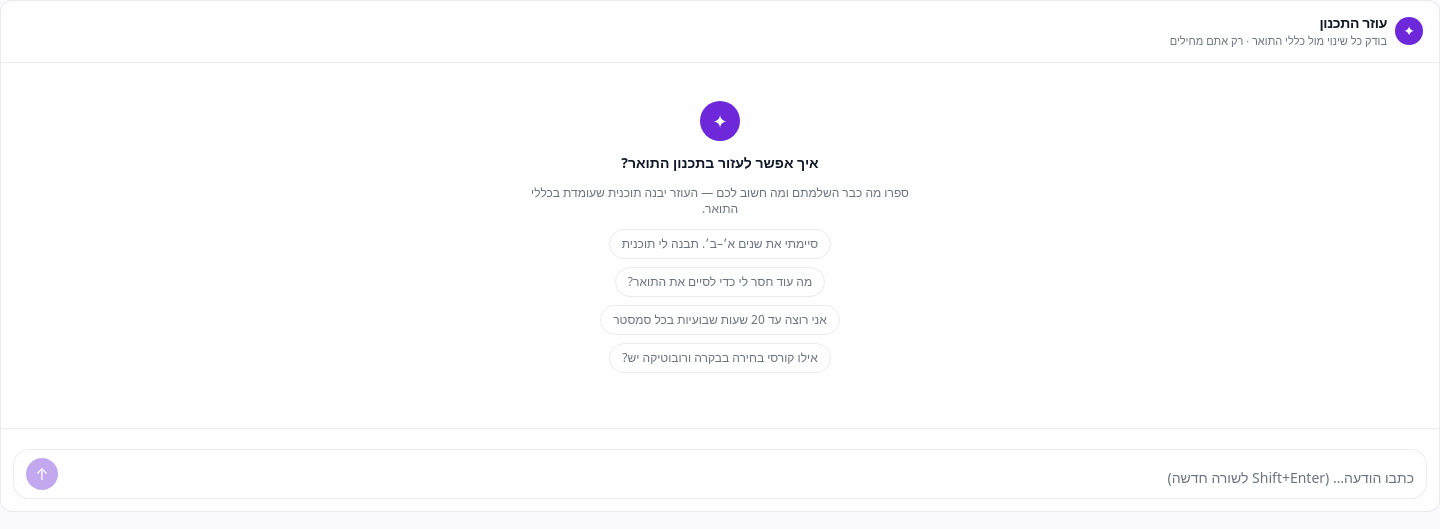
Test case: renders the server-owned readiness state inside the conversation surface
The image size is (1440, 529).
Type "בנה לי חלופות" into the text box named "הודעה לעוזר האקדמי" at (740, 478), box [66,466,1414,490]
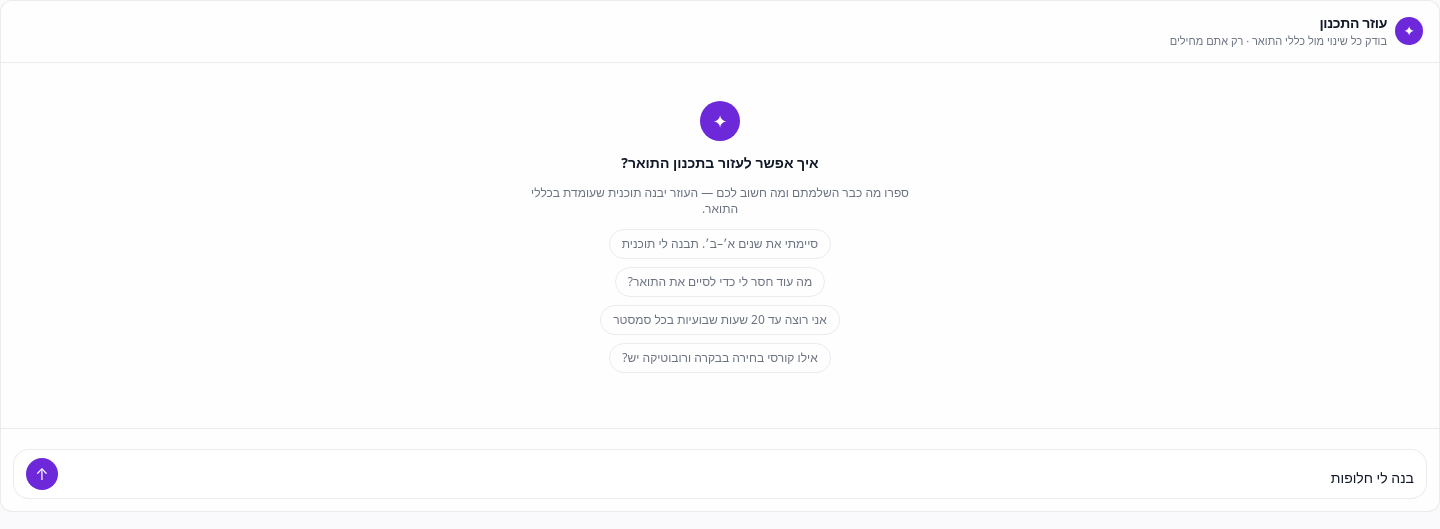
Click the button named "שלח לעוזר" at (42, 474), box [26,458,58,490]
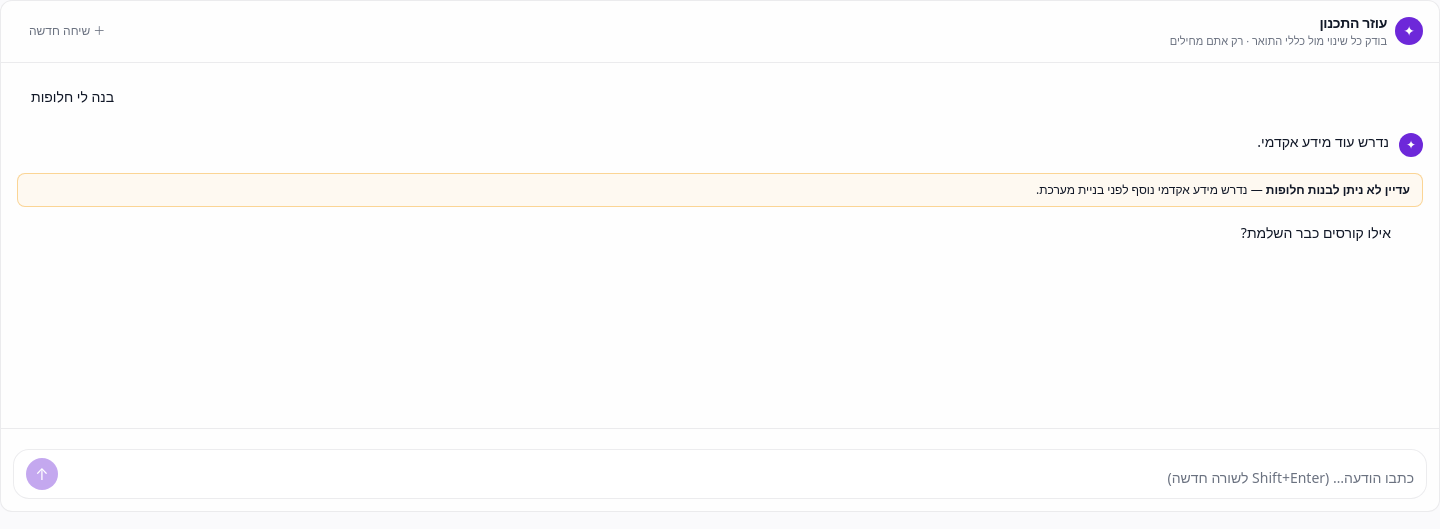
Result: the message with test id "academic-agent-readiness" shows "עדיין לא ניתן לבנות חלופות" at [1266,180,1410,198]
Result: the message with test id "academic-agent-readiness" shows "נדרש מידע אקדמי נוסף" at [1036,180,1266,198]
